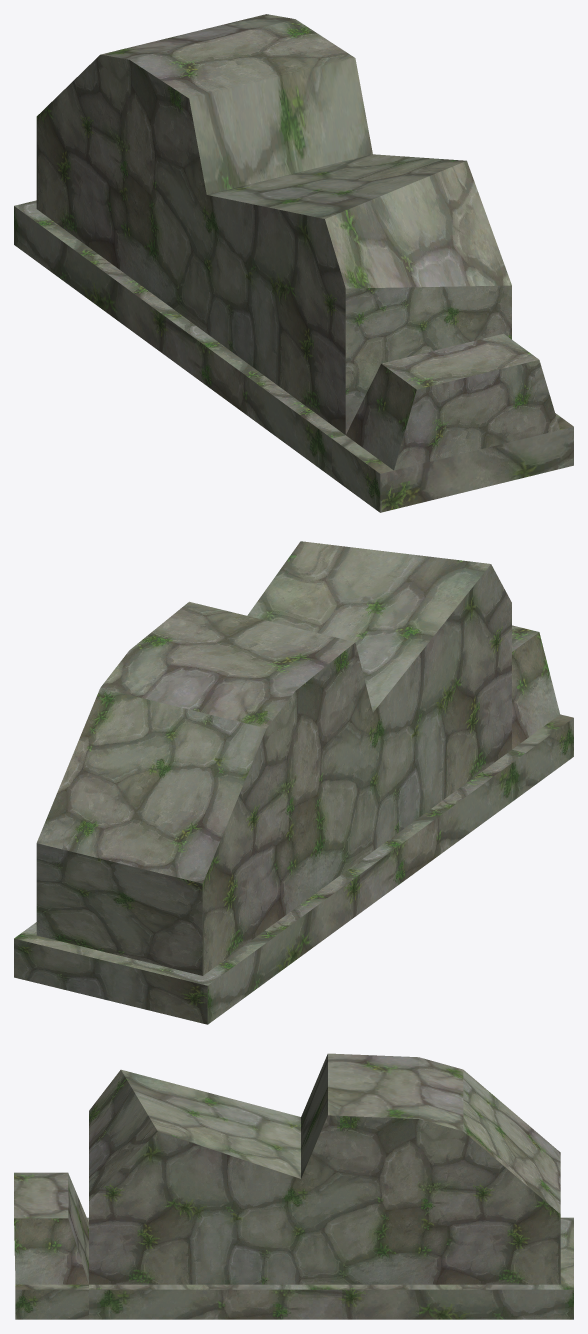
File: Wall_02.glb
3 renders of one model, top to bottom at view 1: azimuth 30°, elevation 25°; view 2: azimuth 150°, elevation 25°; view 3: azimuth 270°, elevation 25°, orthographic. The views are drawn at different scales.
Visible parts, largest first — view 1: Wall_02; view 2: Wall_02; view 3: Wall_02.
Boxes of the visible parts, bbox=[...] form: Wall_02: bbox=[14, 14, 573, 512]; Wall_02: bbox=[14, 541, 573, 1024]; Wall_02: bbox=[14, 1053, 573, 1319].
Size of what is drawn, in the model's own units: 2.33 by 3 by 7.65.
Materials: 1 (1 with a texture image).
